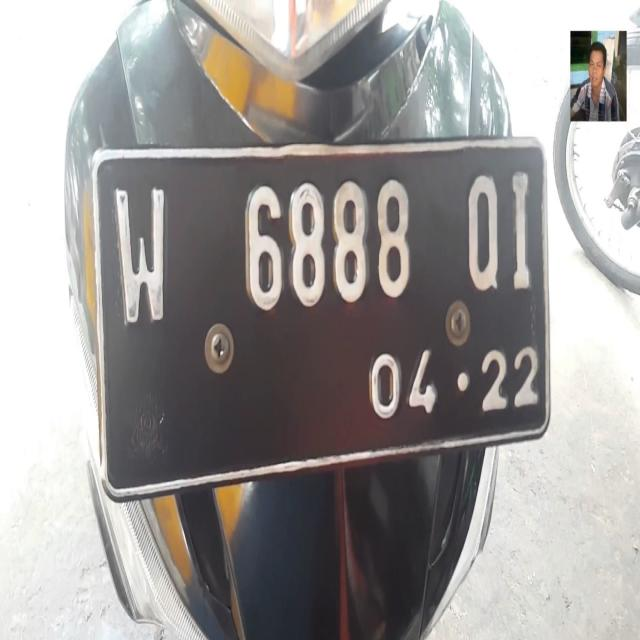plate: (94, 162, 546, 434)
